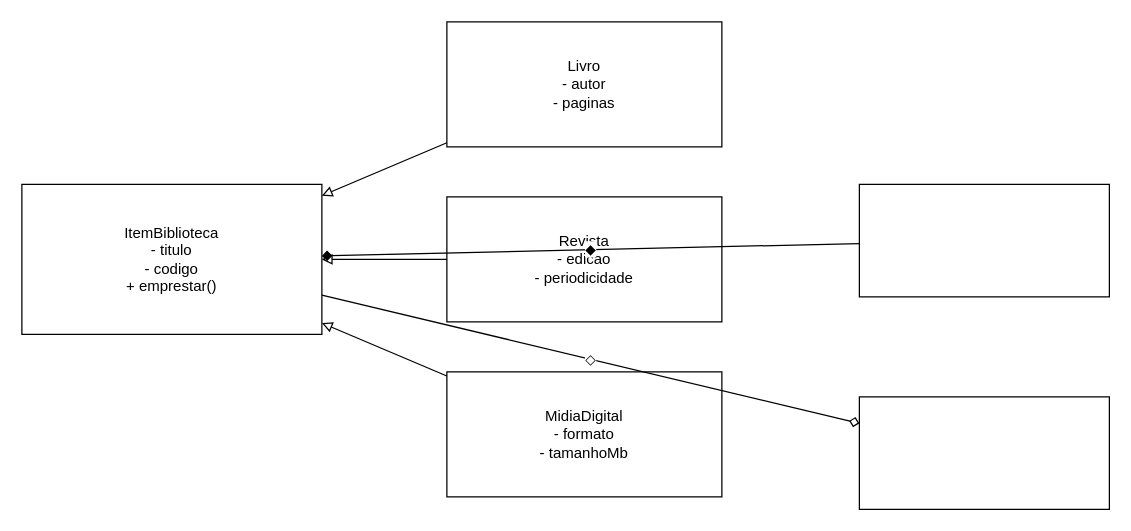
Some shapes in this 1131 by 531 pixel diagram are drawn without their labels. Each missing label, with the centre of its shape:
"Biblioteca - acervo" belongs at (x=983, y=452).
"Emprestimo - usuario - data" belongs at (x=983, y=240).
